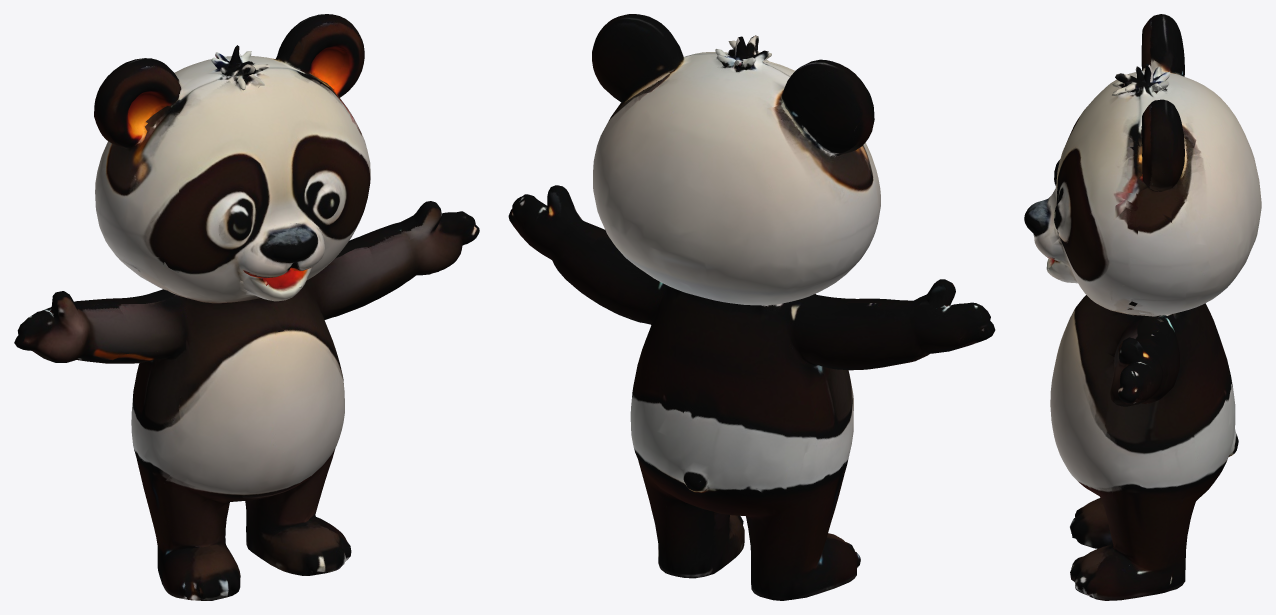
File: panda.glb
3 views of the same model, side by side, from view 1: azimuth 30°, elevation 25°; view 2: azimuth 150°, elevation 25°; view 3: azimuth 270°, elevation 25° (orthographic). The views are drawn at different scales.
Parts seen in each view (by area): view 1: panda_clean; view 2: panda_clean; view 3: panda_clean.
Part boxes in pixels (x1,y1,x2,y2): panda_clean: (14, 14, 479, 600); panda_clean: (508, 14, 995, 600); panda_clean: (1024, 14, 1261, 600).
Bounding box in the file's own units: 1.41 × 1.5 × 0.6469.
Materials: 1 (1 with a texture image).
